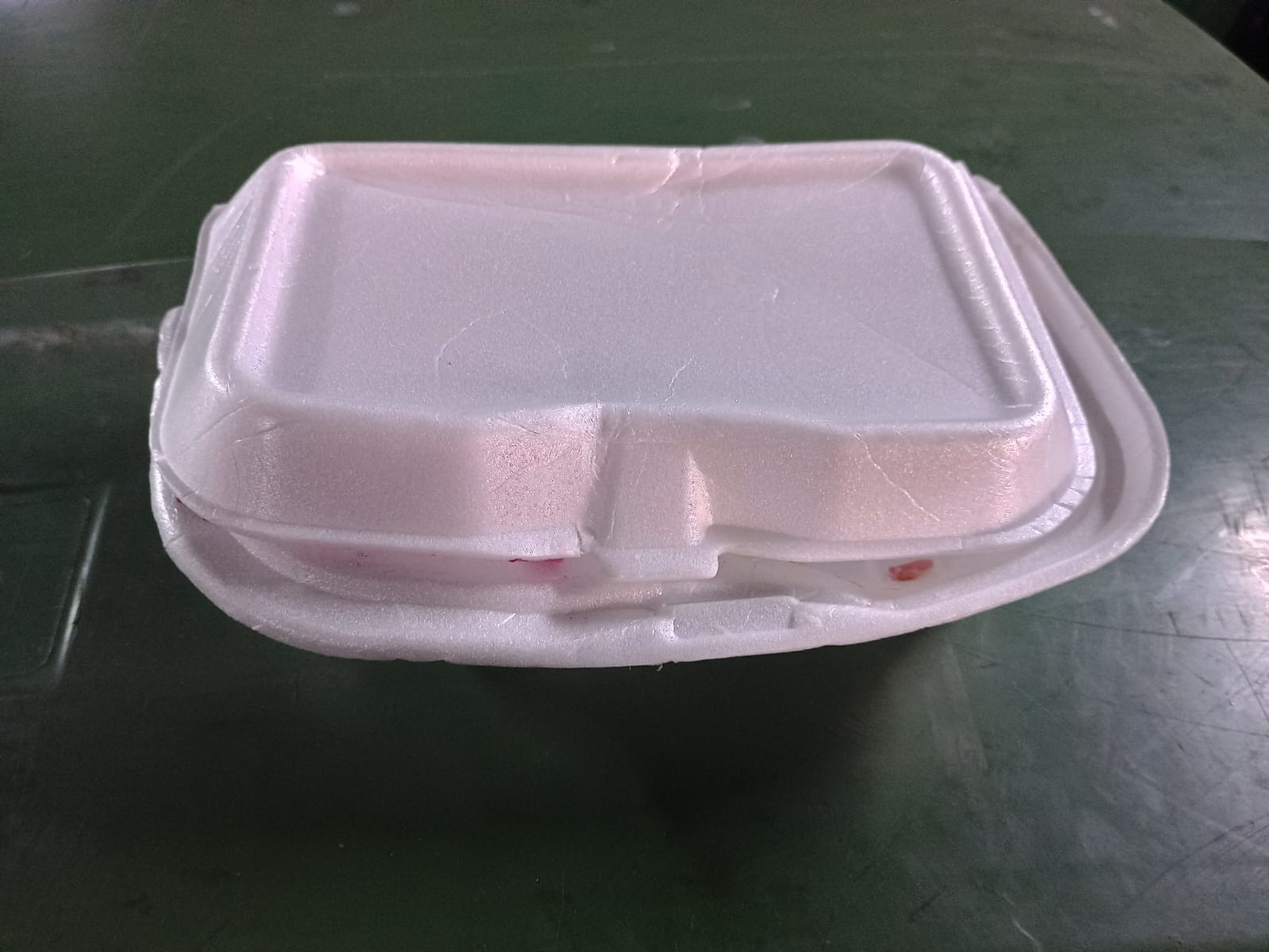Ordinario: (149, 141, 1171, 669)
